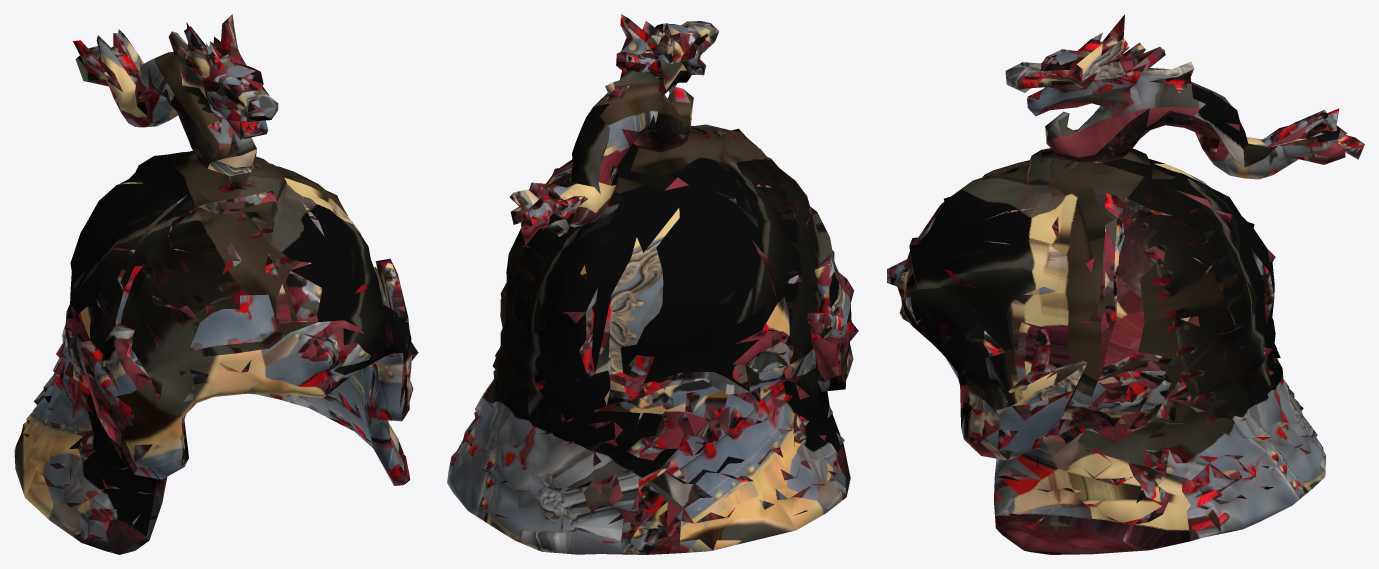
File: guofengtoukui2.fbx
3 views of the same model, side by side, from view 1: azimuth 30°, elevation 25°; view 2: azimuth 150°, elevation 25°; view 3: azimuth 270°, elevation 25° (orthographic). The views are drawn at different scales.
Parts seen in each view (by area): view 1: Mesh_0; view 2: Mesh_0; view 3: Mesh_0.
Part boxes in pixels (x1,y1,x2,y2): Mesh_0: (14, 14, 418, 554); Mesh_0: (447, 14, 858, 554); Mesh_0: (887, 14, 1364, 554).
Bounding box in the file's own units: 0.7629 × 1.01 × 0.9559.
